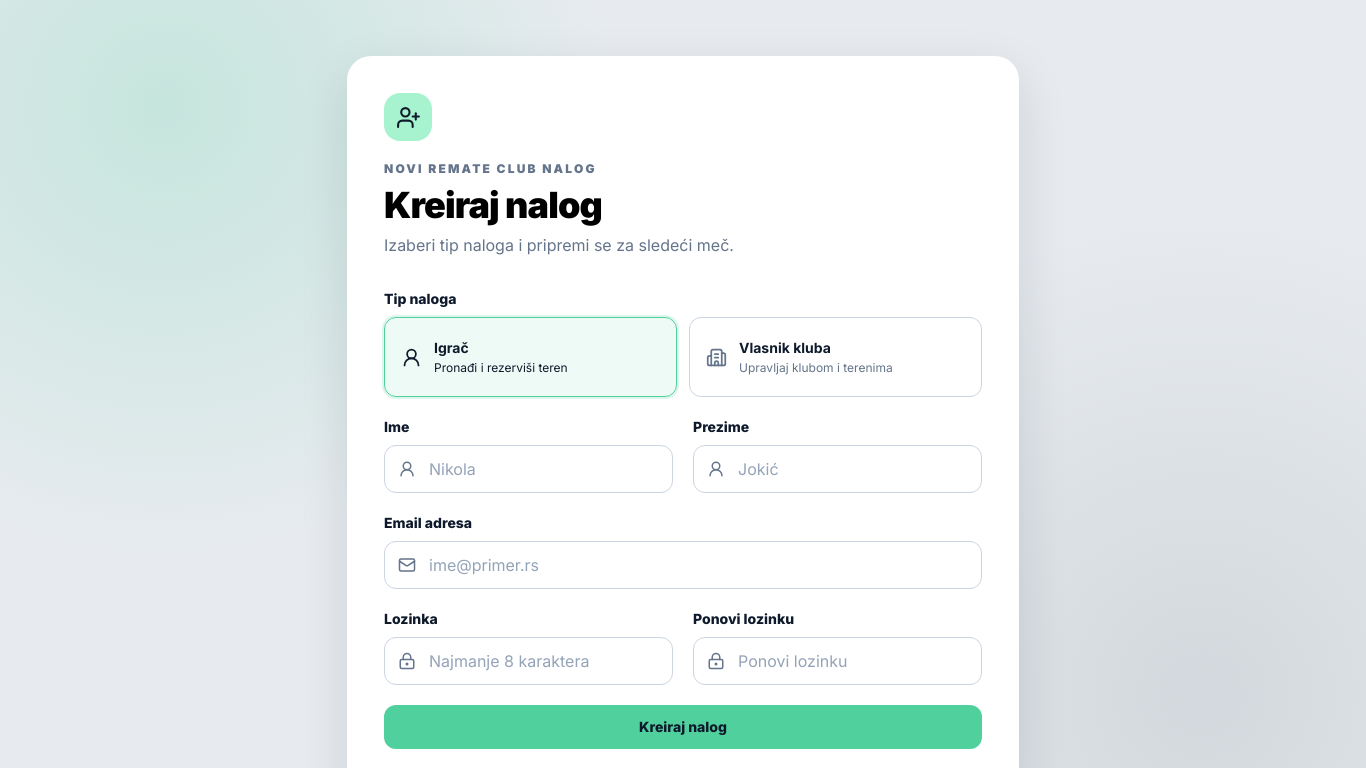
RegisterPage › validates password confirmation and offers player/owner roles
Expected: the text "Igrač" is shown, [434,339,469,356]
Expected: the text "Vlasnik kluba" is shown, [739,339,831,356]
Step 1. Type "strongPassword123" into the password field labelled "Lozinka" → (528, 661), box [384,637,673,685]
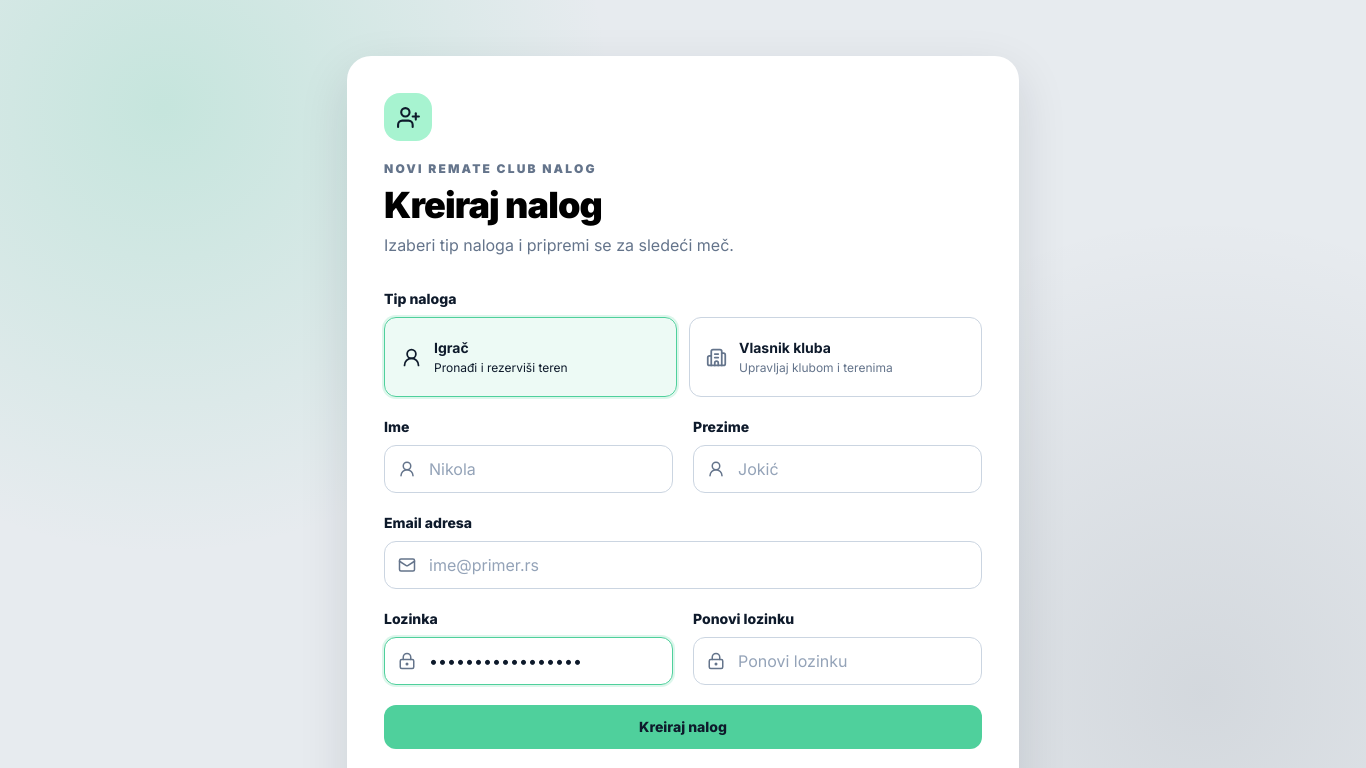
Step 2. Type "differentPassword" into the password field labelled "Ponovi lozinku" → (838, 661), box [693,637,982,685]
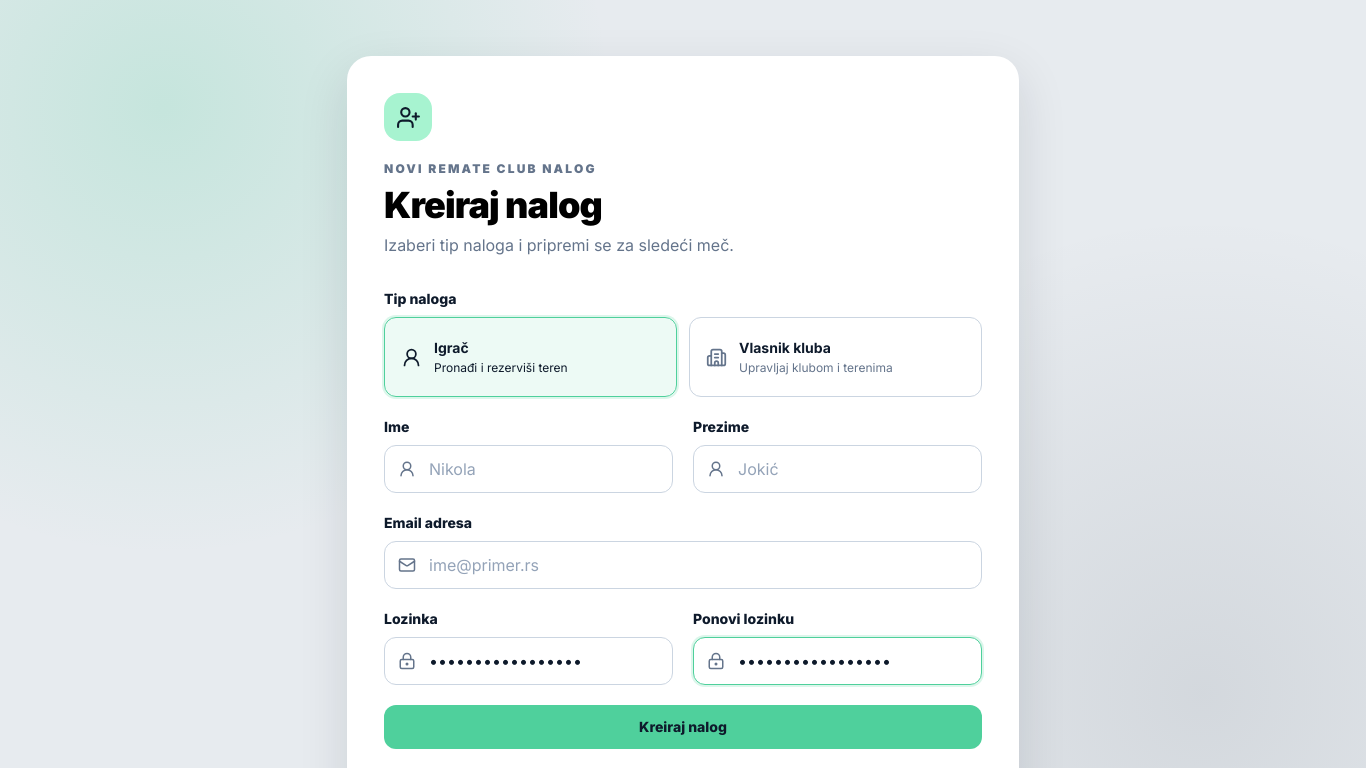
Step 3. Click the button "Kreiraj nalog" → (683, 727), box [384,705,982,749]
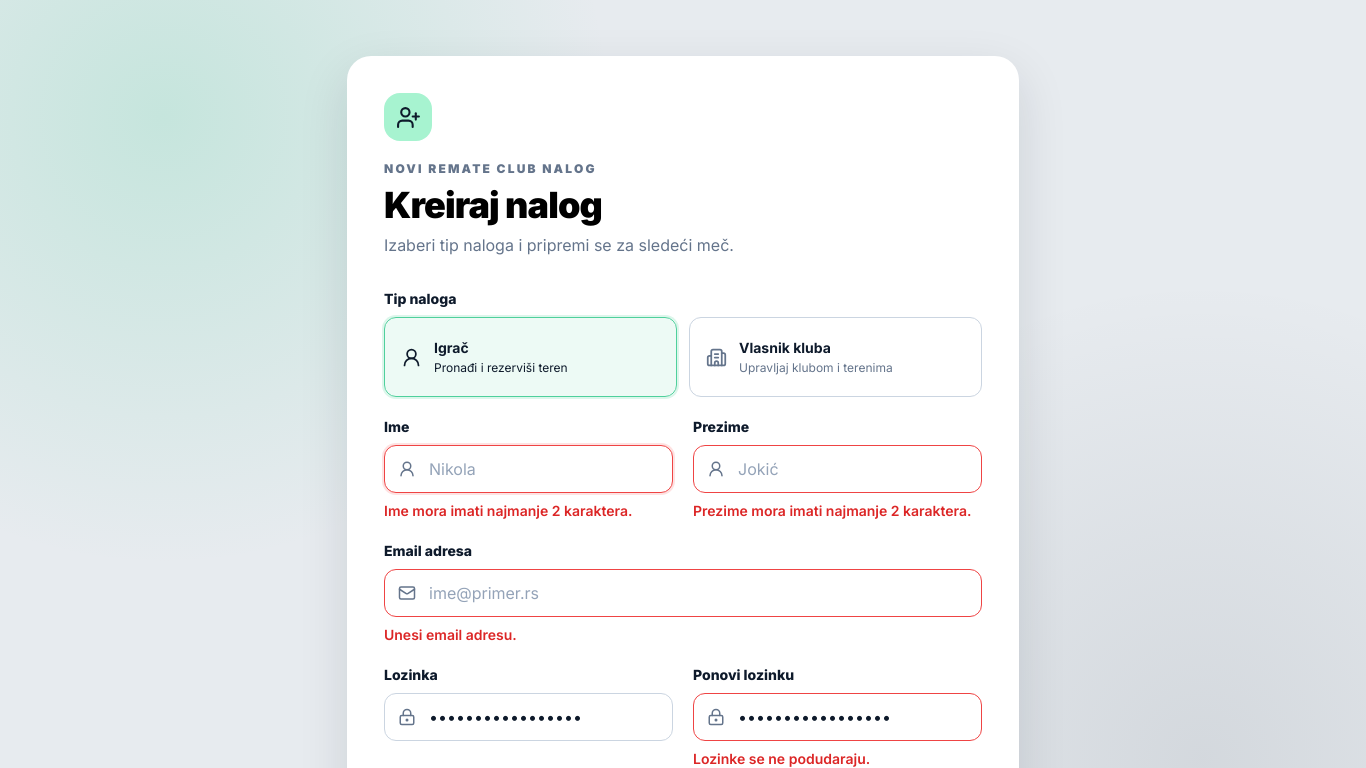
Now the text "Lozinke se ne podudaraju." is shown, box [693,750,870,767]
